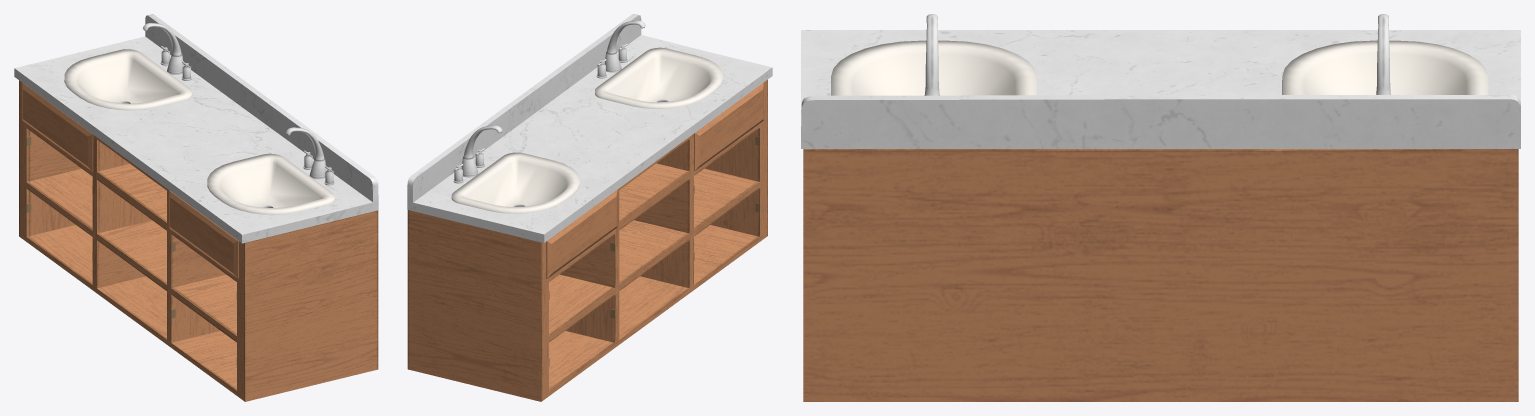
File: SM_BathShelf_A1.fbx
3 views of the same model, side by side, from view 1: azimuth 30°, elevation 25°; view 2: azimuth 150°, elevation 25°; view 3: azimuth 270°, elevation 25° (orthographic). The views are drawn at different scales.
Visible parts, largest first — view 1: SM_BathShelf_A1; view 2: SM_BathShelf_A1; view 3: SM_BathShelf_A1.
Part boxes in pixels (bbox=[...]): SM_BathShelf_A1: bbox=[14, 14, 378, 401]; SM_BathShelf_A1: bbox=[407, 14, 772, 401]; SM_BathShelf_A1: bbox=[801, 14, 1520, 401].
Bounding box in the file's own units: 75.46 × 217 × 117.
2 materials, 2 textured.
